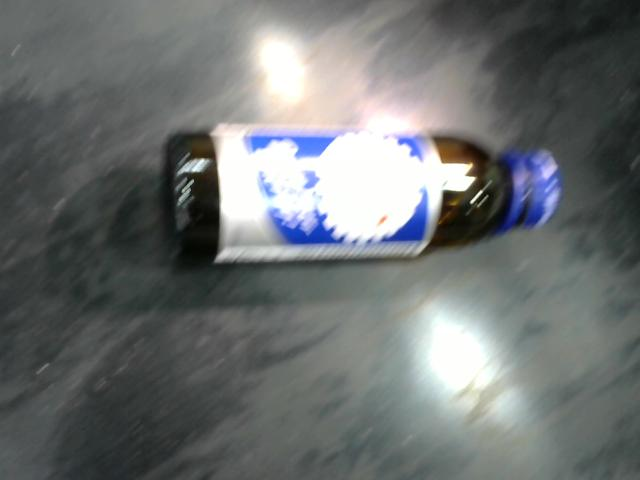glass: (159, 122, 565, 271)
